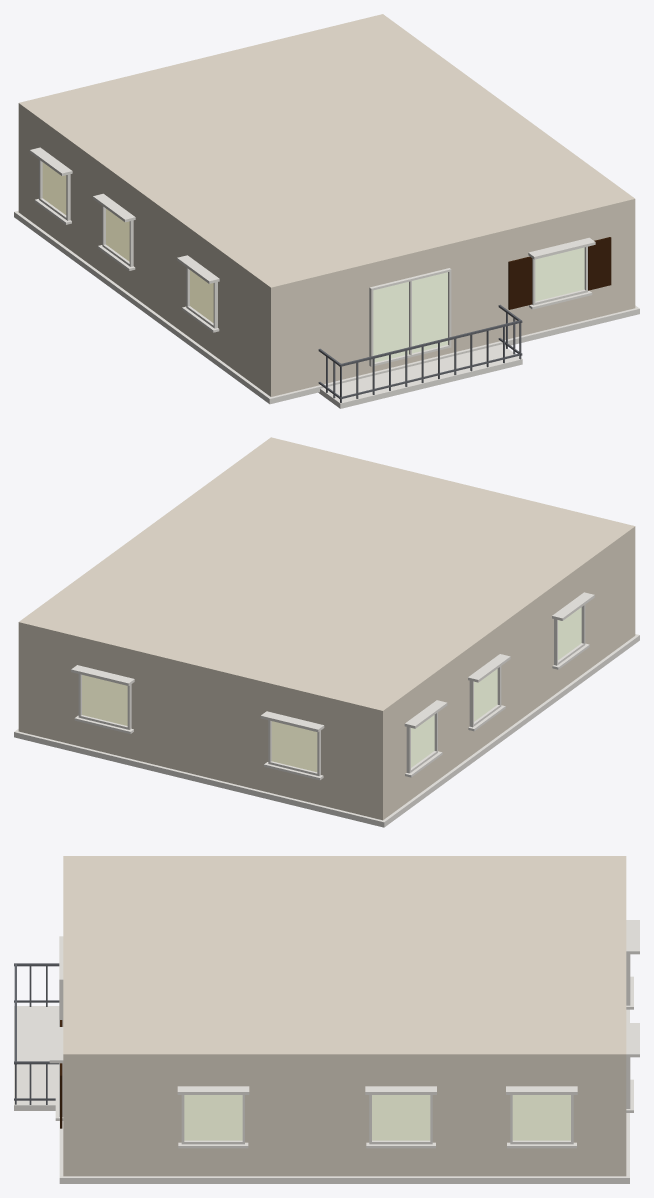
Rendered from SM_Floor_MidPopular.fbx.
3 renders of one model, top to bottom at view 1: azimuth 30°, elevation 25°; view 2: azimuth 150°, elevation 25°; view 3: azimuth 270°, elevation 25°, orthographic. The views are drawn at different scales.
Visible parts, largest first — view 1: SM_Floor_MidPopular; view 2: SM_Floor_MidPopular; view 3: SM_Floor_MidPopular.
Part boxes in pixels (x1,y1,x2,y2): SM_Floor_MidPopular: [14, 14, 639, 408]; SM_Floor_MidPopular: [14, 437, 639, 827]; SM_Floor_MidPopular: [14, 856, 639, 1183].
Size of the model in its own units: 1058 by 306 by 1334.
